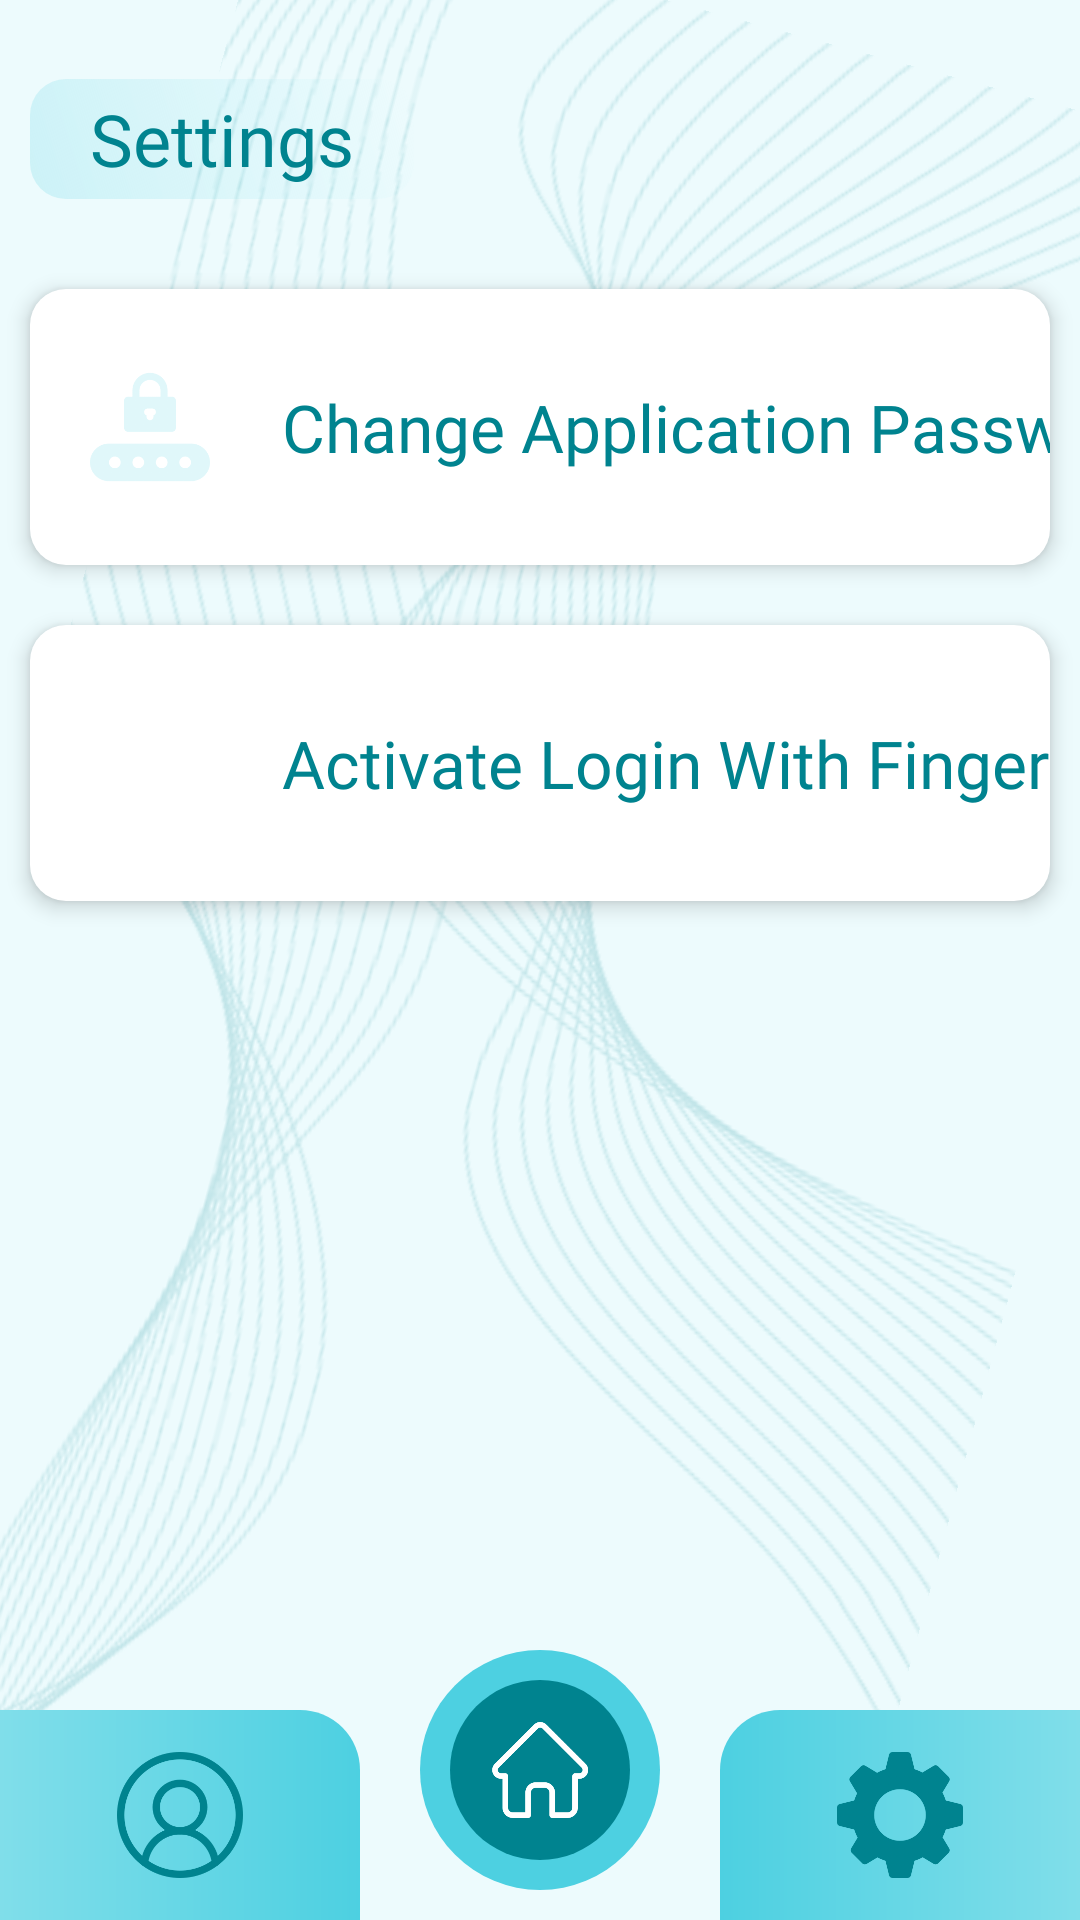

Screen size 1080x1920. Icon name, then its box in pixels as [x1,y1,x2,y2]:
home: [450,1680,630,1860]
profile: [0,1710,360,1920]
setting: [720,1710,1080,1920]
